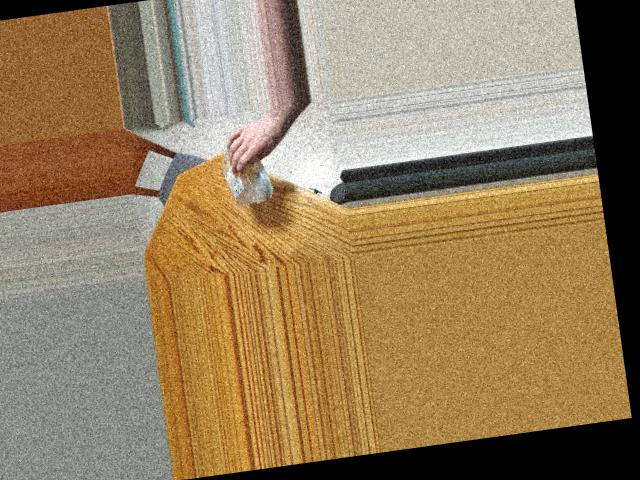cheese: (219, 130, 273, 189)
